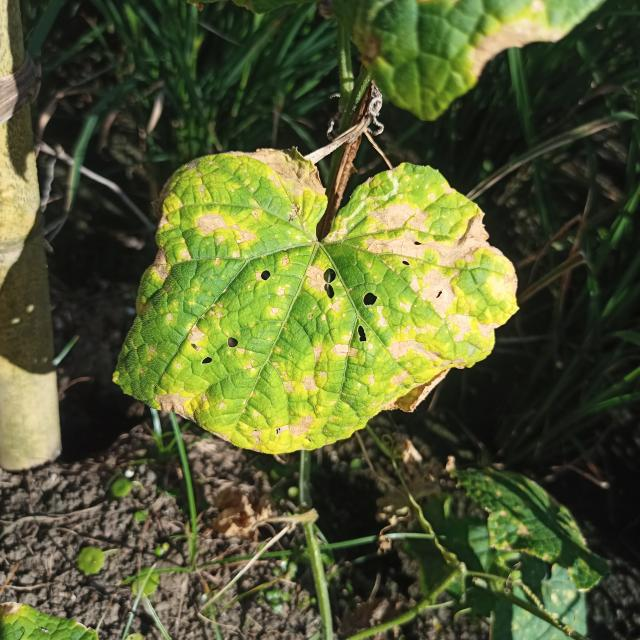disease_cucumber: (135, 144, 521, 450)
